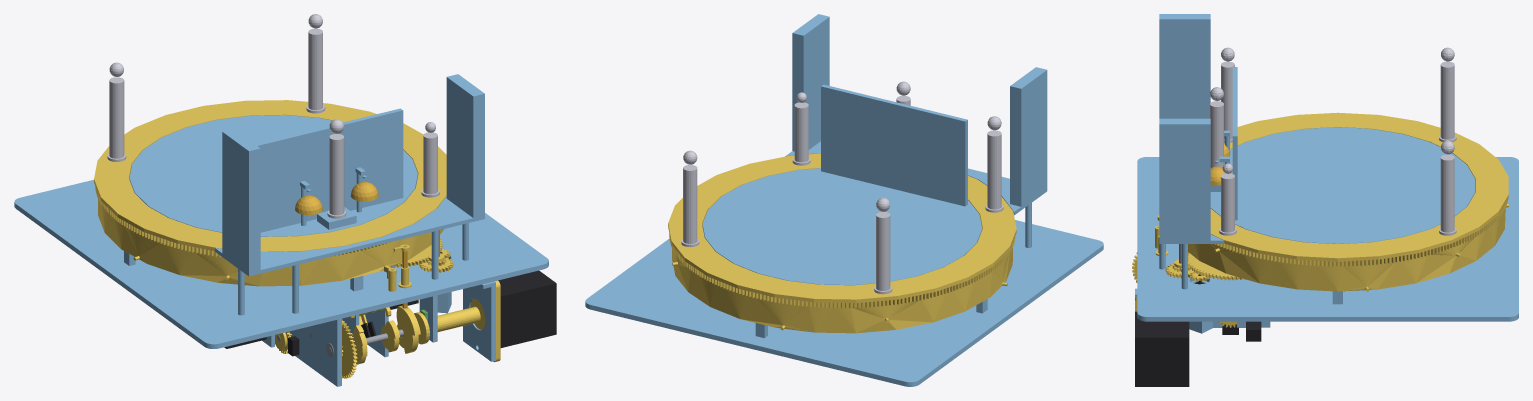
Rendered from e2_ages.dae.
3 renders of one model, left to right at view 1: azimuth 30°, elevation 25°; view 2: azimuth 150°, elevation 25°; view 3: azimuth 270°, elevation 25°, orthographic. The views are drawn at different scales.
Visible parts, largest first — view 1: deck, ring, floor_island, back_wall, pier_left, pier_right, state_motor, floor_front, state_plate_left, state_motor_plate, death_placeholder, age_man_placeholder (+9 smaller); view 2: floor_island, deck, ring, back_wall, pier_left, pier_right, age_old_man_placeholder, age_man_placeholder, age_youth_placeholder, age_child_placeholder, floor_front; view 3: floor_island, deck, ring, pier_right, pier_left, state_motor, age_youth_placeholder, age_man_placeholder, death_placeholder, age_child_placeholder, age_old_man_placeholder, back_wall (+2 smaller).
Part boxes in pixels (x1=…): deck: x1=14, y1=179, x2=548, y2=348; ring: x1=94, y1=100, x2=446, y2=286; floor_island: x1=129, y1=115, x2=417, y2=236; back_wall: x1=255, y1=108, x2=403, y2=232; pier_left: x1=222, y1=129, x2=260, y2=272; pier_right: x1=446, y1=74, x2=484, y2=217; state_motor: x1=498, y1=270, x2=556, y2=347; floor_front: x1=215, y1=196, x2=484, y2=276; state_plate_left: x1=290, y1=318, x2=341, y2=386; state_motor_plate: x1=463, y1=281, x2=495, y2=361; death_placeholder: x1=327, y1=119, x2=346, y2=218; age_man_placeholder: x1=107, y1=62, x2=126, y2=161; floor_island: x1=702, y1=168, x2=982, y2=285; deck: x1=585, y1=220, x2=1103, y2=386; ring: x1=668, y1=153, x2=1016, y2=333; back_wall: x1=821, y1=84, x2=967, y2=206; pier_left: x1=1010, y1=67, x2=1047, y2=206; pier_right: x1=792, y1=14, x2=829, y2=151; age_old_man_placeholder: x1=985, y1=116, x2=1003, y2=212; age_man_placeholder: x1=874, y1=197, x2=892, y2=294; age_youth_placeholder: x1=681, y1=150, x2=699, y2=247; age_child_placeholder: x1=792, y1=92, x2=810, y2=165; floor_front: x1=785, y1=141, x2=1047, y2=215; floor_island: x1=1210, y1=127, x2=1474, y2=243; deck: x1=1137, y1=157, x2=1518, y2=321; ring: x1=1188, y1=112, x2=1508, y2=291; pier_right: x1=1159, y1=118, x2=1210, y2=240; pier_left: x1=1159, y1=14, x2=1210, y2=118; state_motor: x1=1135, y1=311, x2=1189, y2=386; age_youth_placeholder: x1=1439, y1=140, x2=1456, y2=235; age_man_placeholder: x1=1439, y1=47, x2=1456, y2=142; death_placeholder: x1=1210, y1=87, x2=1223, y2=167; age_child_placeholder: x1=1219, y1=163, x2=1236, y2=235; age_old_man_placeholder: x1=1221, y1=47, x2=1234, y2=142; back_wall: x1=1232, y1=67, x2=1237, y2=220.
Size of the model in its own units: 297 by 301 by 214.
